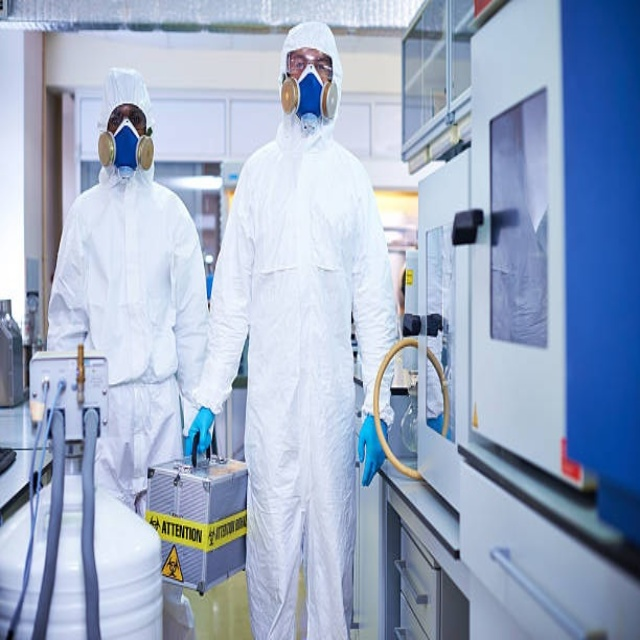Gafas: (286, 52, 334, 80), (108, 105, 148, 137)
Guantes: (358, 414, 388, 486), (185, 402, 219, 460)
Mascara: (293, 68, 327, 124), (109, 120, 142, 171)
